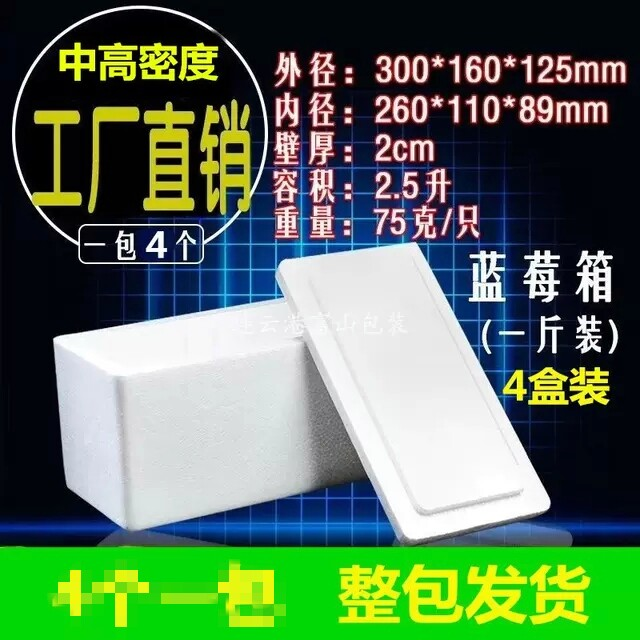Boxes: (54, 244, 550, 542)
